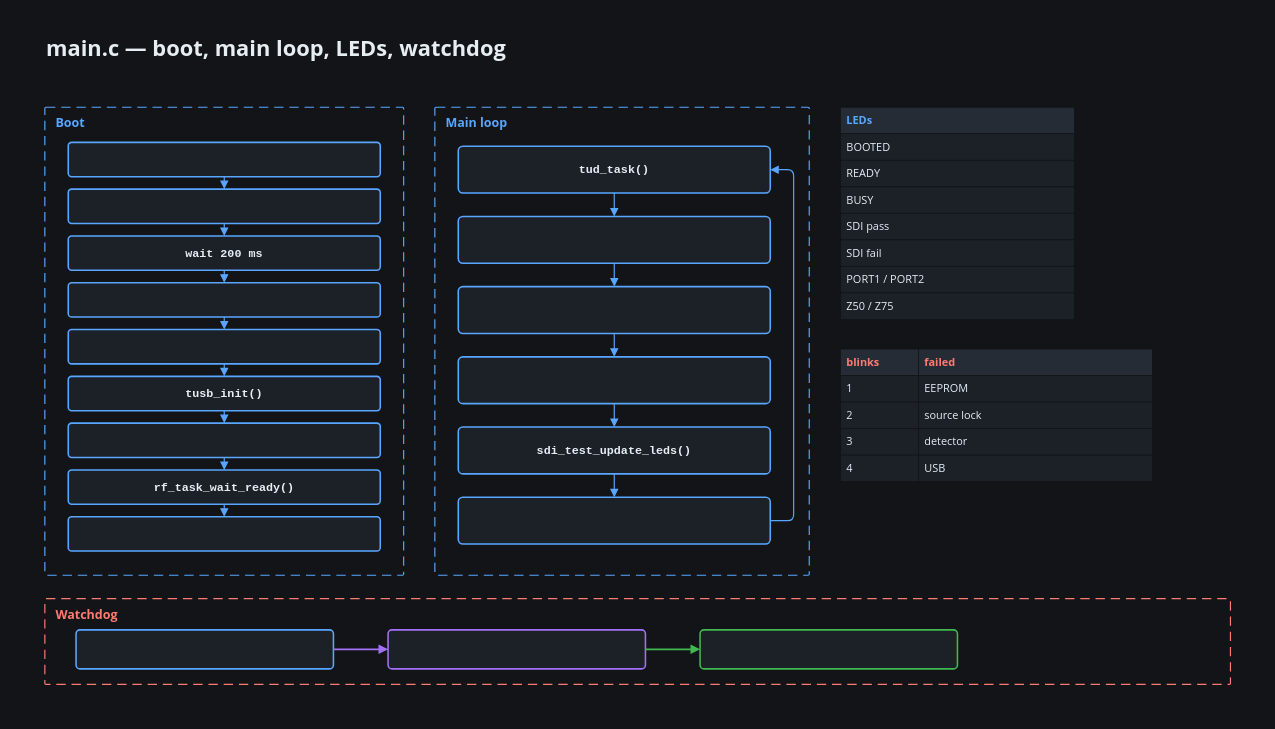
This 1275x729 diagram has some shape labels left out. The centre of each missing label's shape, as x and y in pixels:
"board_gpio_init()" goes at [224,159].
"boot blink" goes at [224,206].
"button → sdi_test_start()" goes at [614,380].
"core 1 progressing?" goes at [516,649].
"eeprom_init()" goes at [224,346].
"poll_usb_commands()" goes at [614,239].
"protocol_poll()" goes at [614,309].
"rf_task_start()" goes at [224,299].
"update_heartbeat()" goes at [204,649].
"update_status_leds()" goes at [614,520].
"USB re-attach" goes at [224,440].
"watchdog 8 s" goes at [224,533].
"watchdog_update()" goes at [828,649].
